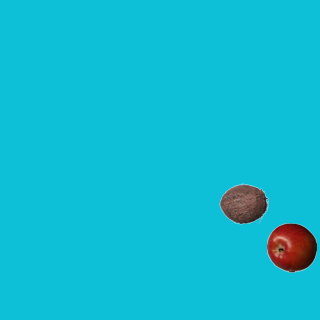Apple Braeburn: (266, 222, 316, 272)
Cocos: (218, 178, 268, 228)
